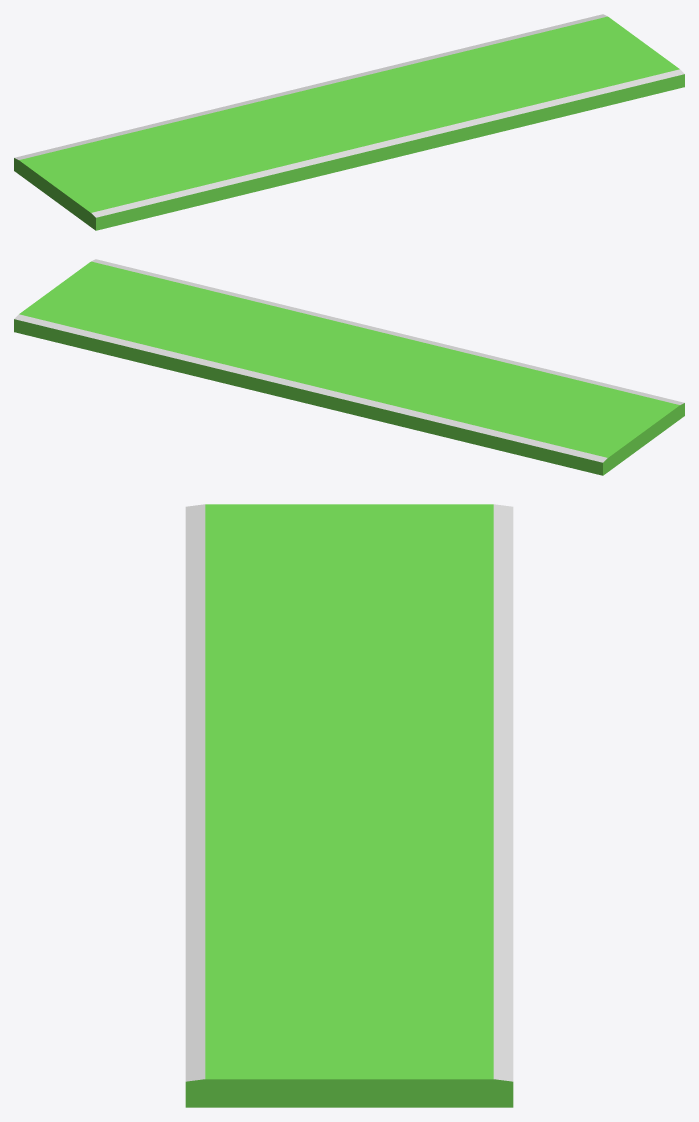
Rendered from ground05.fbx.
The picture shows the model from 3 angles, top to bottom: view 1: azimuth 30°, elevation 25°; view 2: azimuth 150°, elevation 25°; view 3: azimuth 270°, elevation 25°; orthographic projection. The views are drawn at different scales.
Visible parts, largest first — view 1: ground05; view 2: ground05; view 3: ground05.
Boxes of the visible parts, x1=… form: ground05: x1=14, y1=14, x2=684, y2=230; ground05: x1=14, y1=259, x2=684, y2=475; ground05: x1=185, y1=504, x2=513, y2=1107.
Size of the model in its own units: 714 by 16.55 by 172.
